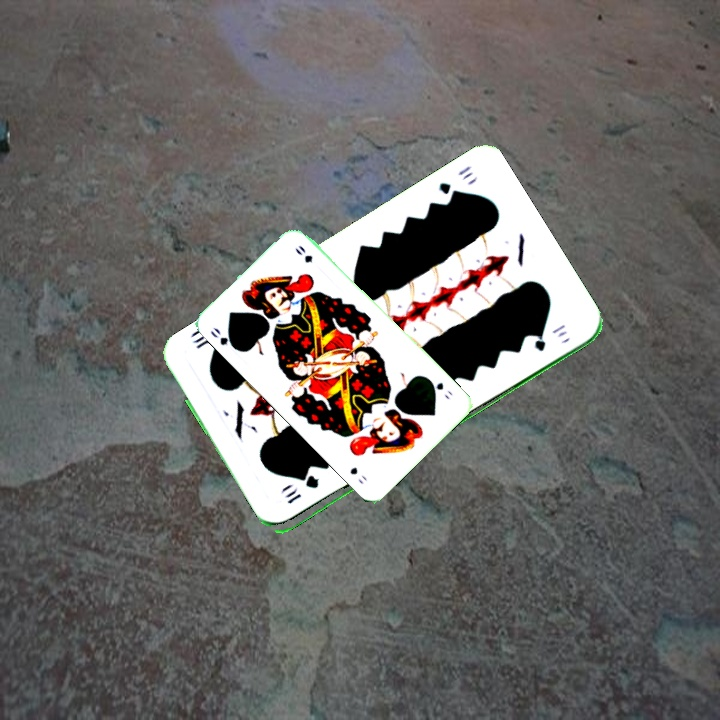G10: (434, 161, 473, 202), (283, 474, 322, 507)
GO: (206, 323, 241, 353), (424, 375, 455, 402)
